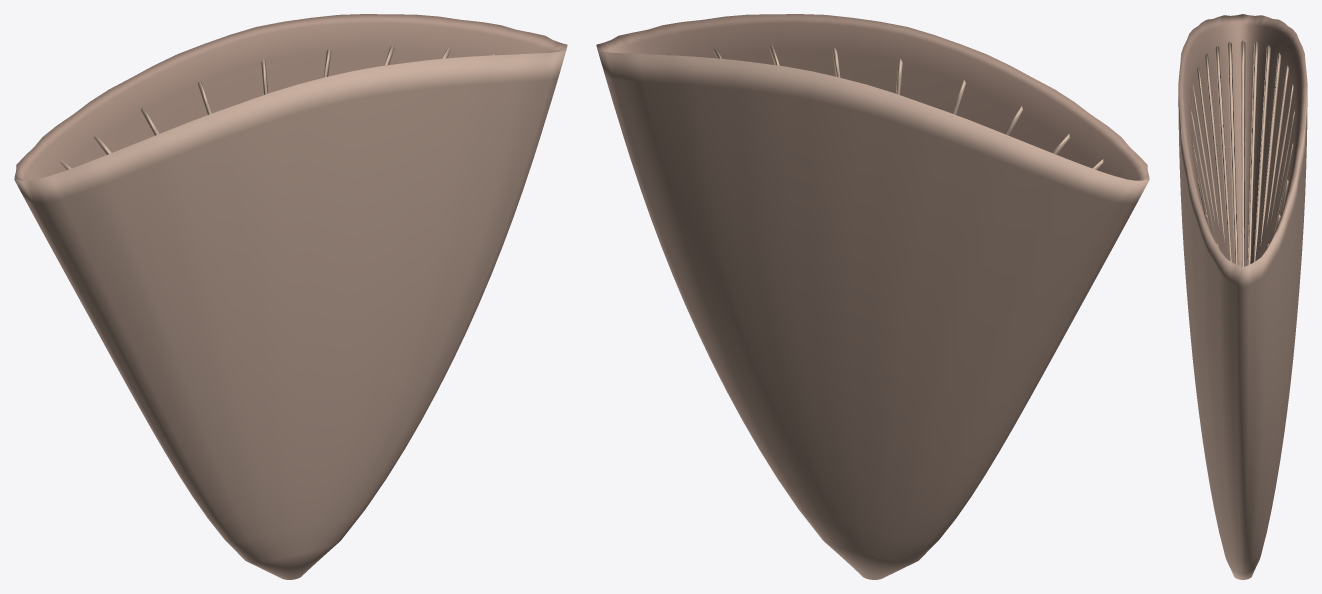
Rendered from flabellum.glb.
3 views of the same model, side by side, from view 1: azimuth 30°, elevation 25°; view 2: azimuth 150°, elevation 25°; view 3: azimuth 270°, elevation 25° (orthographic). The views are drawn at different scales.
Visible parts, largest first — view 1: laterally-compressed-fan-wedge-with-blade-opening, restrained-interior-septal-blades; view 2: laterally-compressed-fan-wedge-with-blade-opening, restrained-interior-septal-blades; view 3: laterally-compressed-fan-wedge-with-blade-opening, restrained-interior-septal-blades.
Boxes of the visible parts, x1=… form: laterally-compressed-fan-wedge-with-blade-opening: x1=14, y1=14, x2=567, y2=579; restrained-interior-septal-blades: x1=60, y1=45, x2=494, y2=169; laterally-compressed-fan-wedge-with-blade-opening: x1=596, y1=14, x2=1149, y2=579; restrained-interior-septal-blades: x1=669, y1=45, x2=1103, y2=169; laterally-compressed-fan-wedge-with-blade-opening: x1=1178, y1=14, x2=1307, y2=579; restrained-interior-septal-blades: x1=1191, y1=40, x2=1294, y2=266.
Bounding box in the file's own units: 0.0996 × 0.09 × 0.0215.
